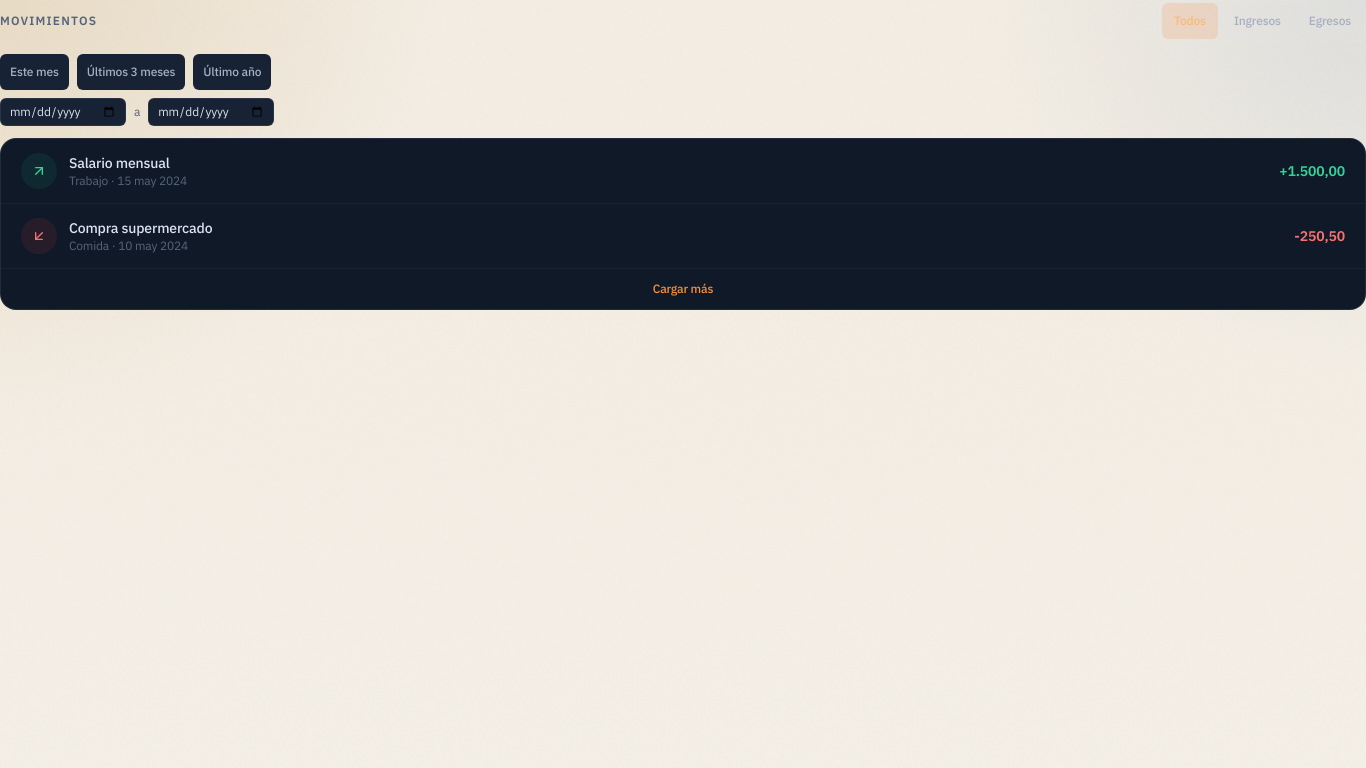
Test case: Transaction Detail Integration › clicking a transaction row opens detail panel
This screenshot has width=1366, height=768.
Step 1. Click the button "Salario mensual Trabajo · 15 may 2024 +1.500,00" → (39, 171), box [21,153,1345,189]
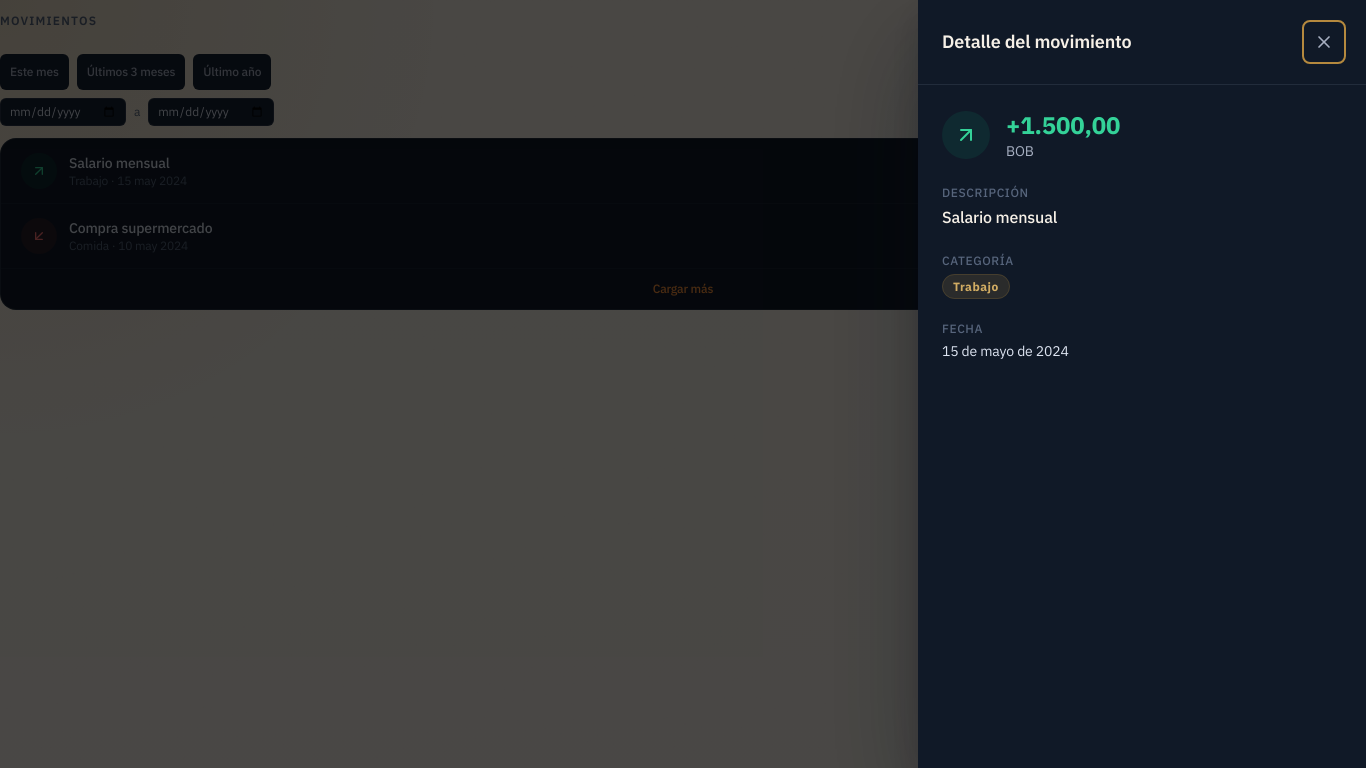
Result: the dialog is shown at [918,0,1365,767]
Result: the heading "Detalle del movimiento" is shown at [942,28,1132,56]
